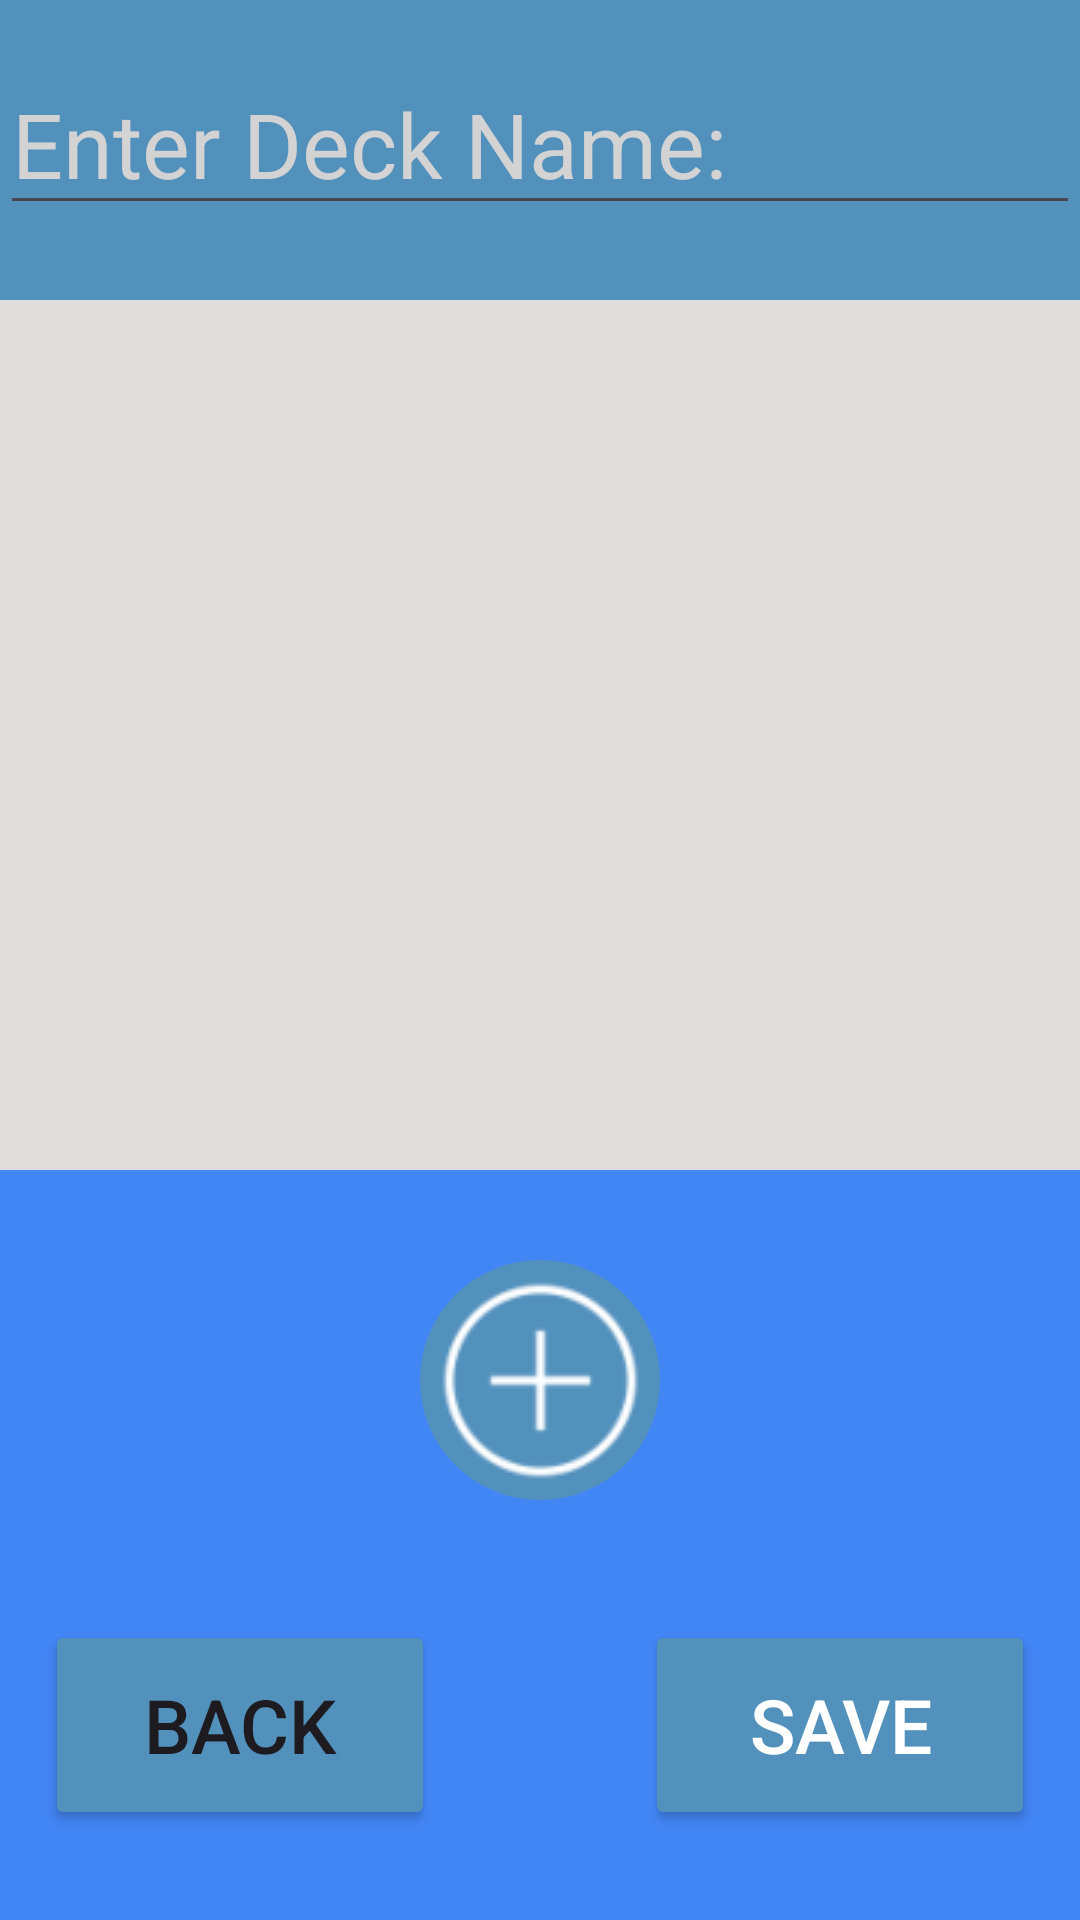

Named icons in this screenshot (1080px x 1920px) and their centers, (x=x, y=y):
add: (x=540, y=1380)
